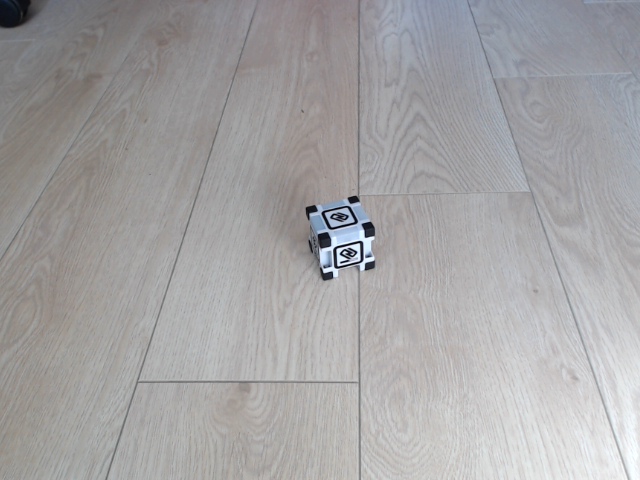block: (302, 193, 380, 284)
